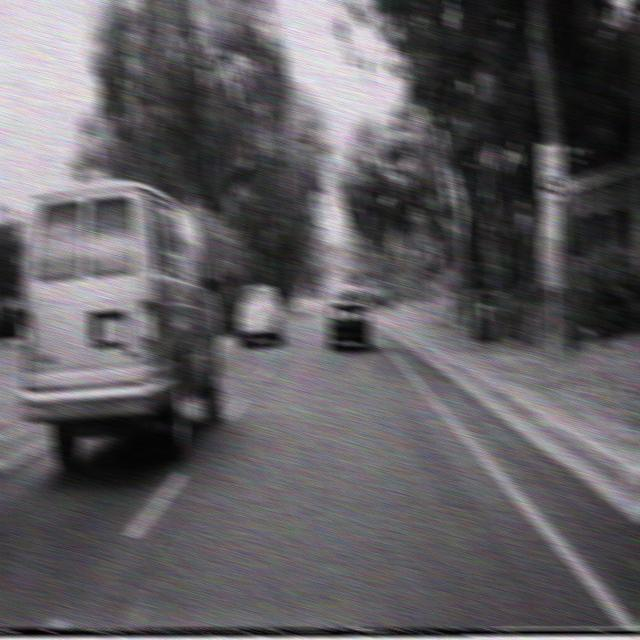speedLimit45: (536, 142, 566, 203)
